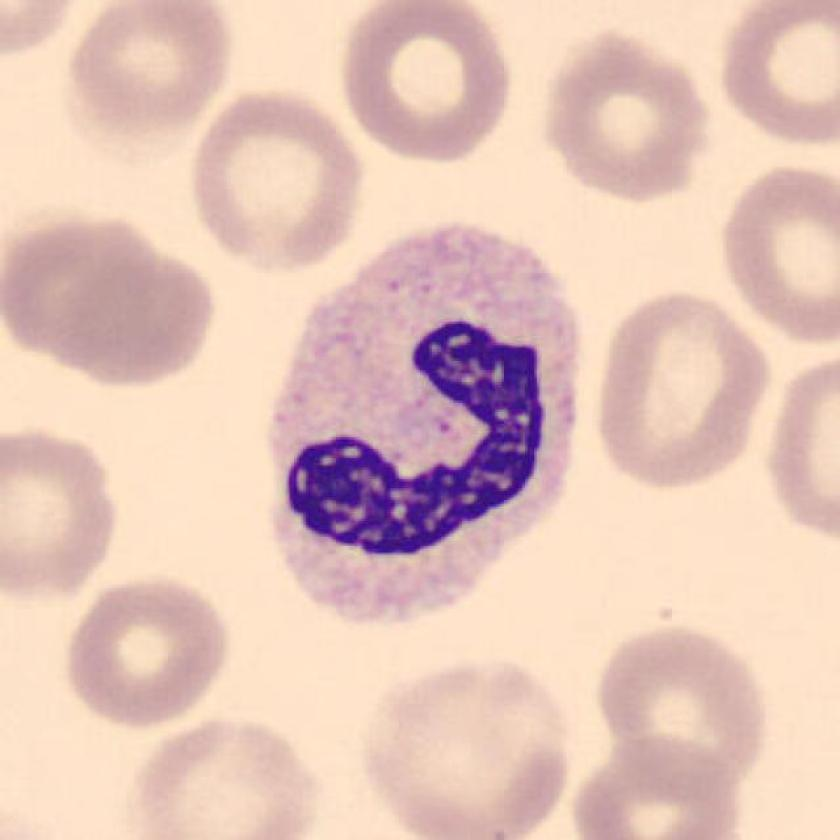neutrophil: (272, 231, 583, 618)
